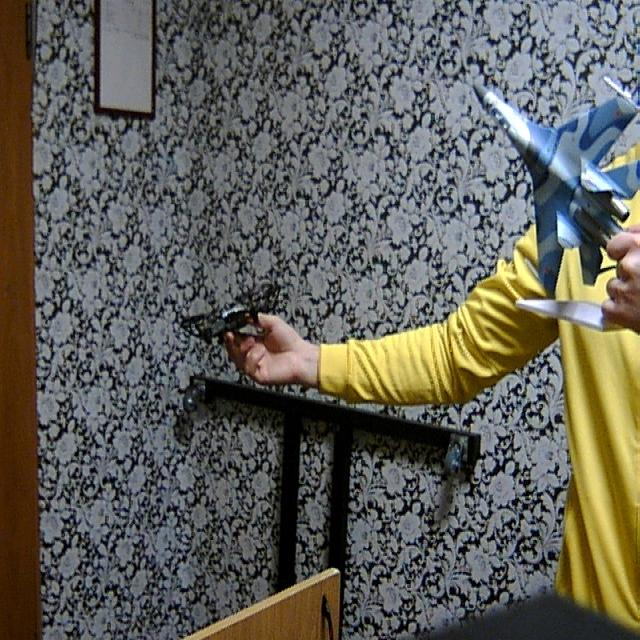drone: (172, 250, 283, 355)
